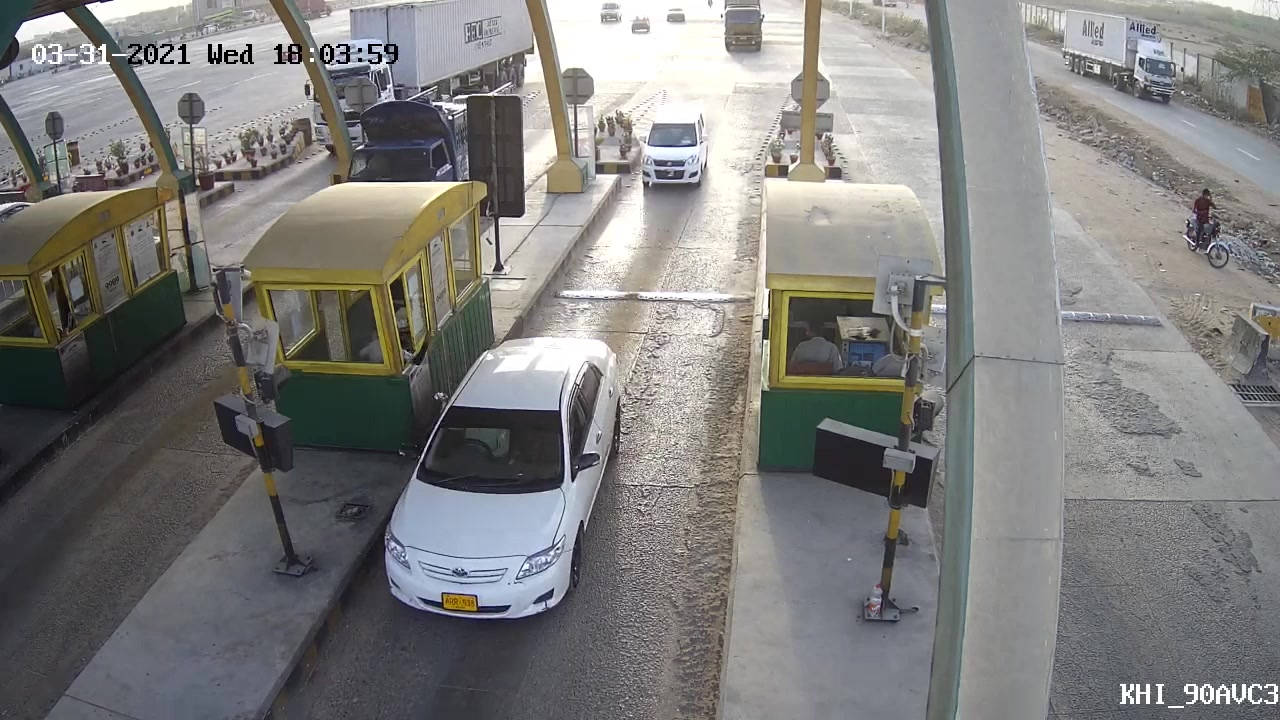F1: (371, 330, 635, 626), (628, 98, 714, 201)
